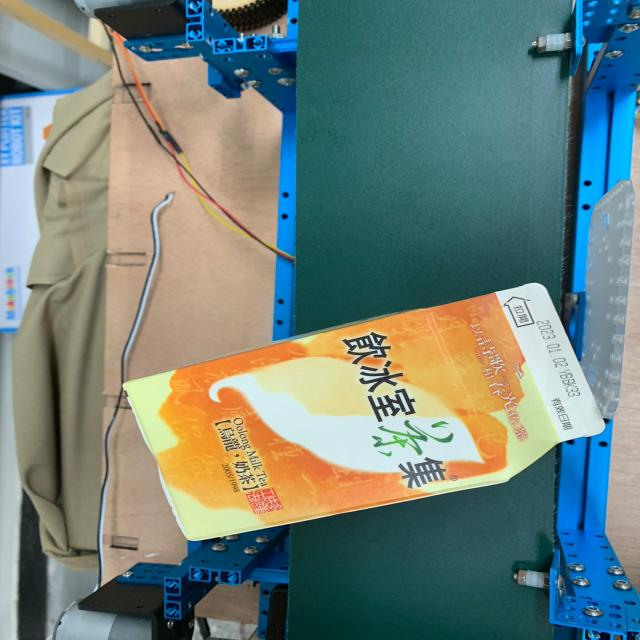non_white_jug: (93, 259, 640, 564)
